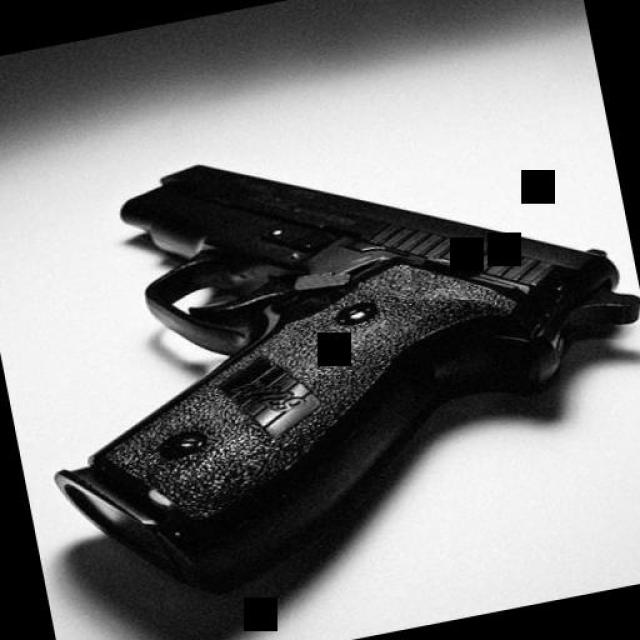gun: (0, 83, 640, 616)
